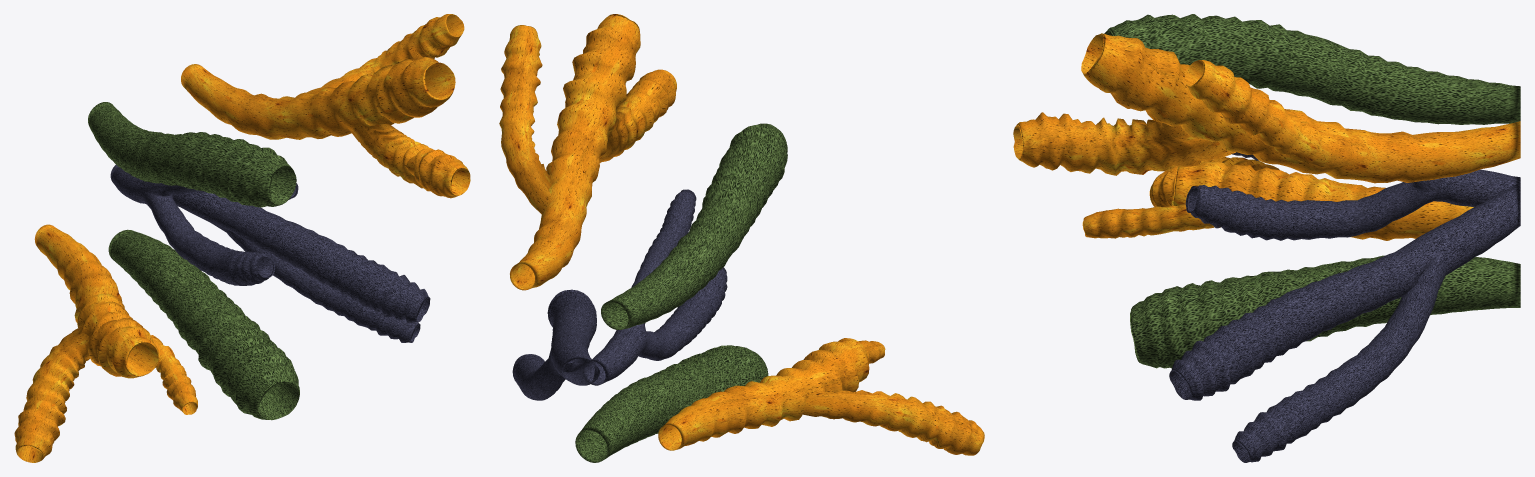
The model's file is TubeSponge_Med.fbx.
The picture shows the model from 3 angles, left to right: view 1: azimuth 30°, elevation 25°; view 2: azimuth 150°, elevation 25°; view 3: azimuth 270°, elevation 25°; orthographic projection. The views are drawn at different scales.
Parts seen in each view (by area): view 1: LOD0; view 2: LOD0; view 3: LOD0.
Boxes of the visible parts, box(x1,y1,x2,y2) form: LOD0: box(14, 14, 470, 462); LOD0: box(499, 14, 984, 462); LOD0: box(1013, 14, 1520, 462).
Bounding box in the file's own units: 3.29 × 2.36 × 2.56.
